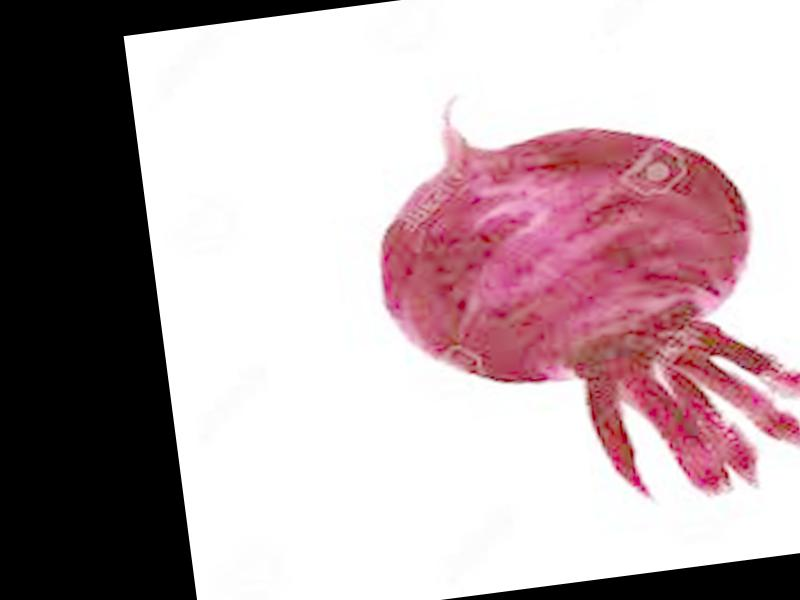Beet: (355, 49, 800, 534)
